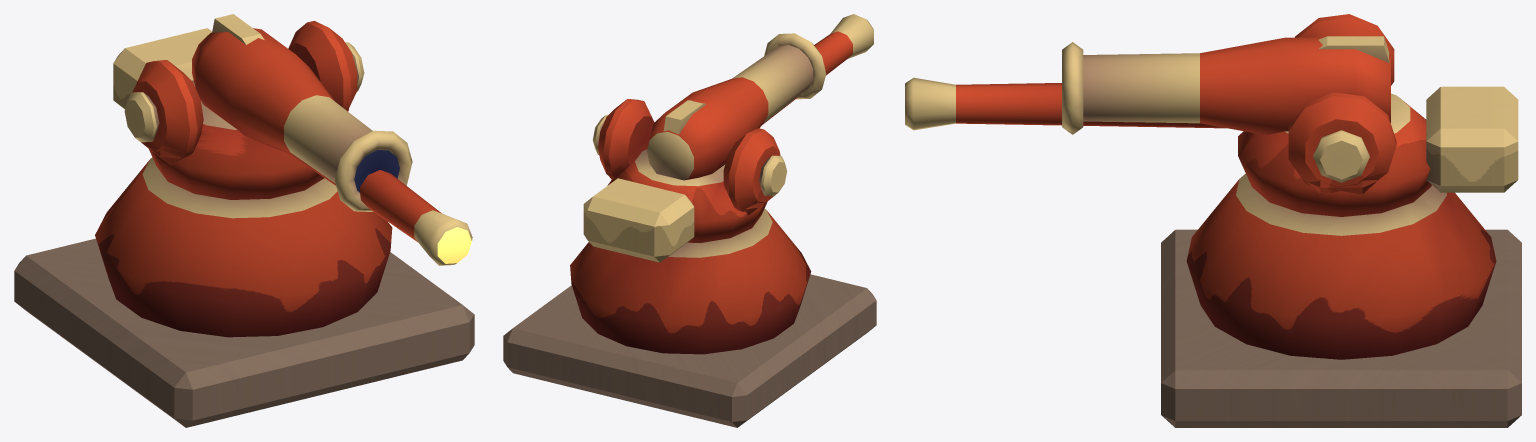
The model's file is R4W_Basic_LOD1.glb.
3 renders of one model, left to right at view 1: azimuth 30°, elevation 25°; view 2: azimuth 150°, elevation 25°; view 3: azimuth 270°, elevation 25°, orthographic. The views are drawn at different scales.
Visible parts, largest first — view 1: R4W_Basic_LOD1; view 2: R4W_Basic_LOD1; view 3: R4W_Basic_LOD1.
Part boxes in pixels (bbox=[...]): R4W_Basic_LOD1: bbox=[14, 14, 474, 427]; R4W_Basic_LOD1: bbox=[503, 14, 876, 427]; R4W_Basic_LOD1: bbox=[905, 14, 1521, 427].
Size of the model in its own units: 0.51 by 0.494 by 0.872.
Materials: 4 (3 with a texture image).
